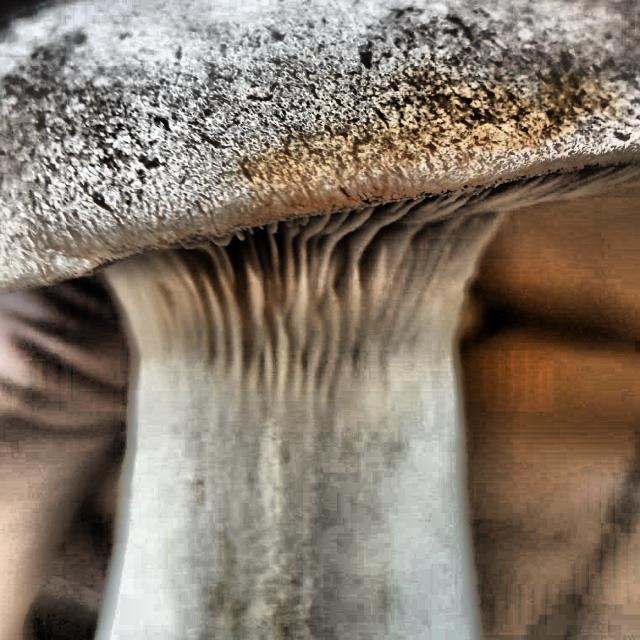Affected: (109, 0, 640, 411)
